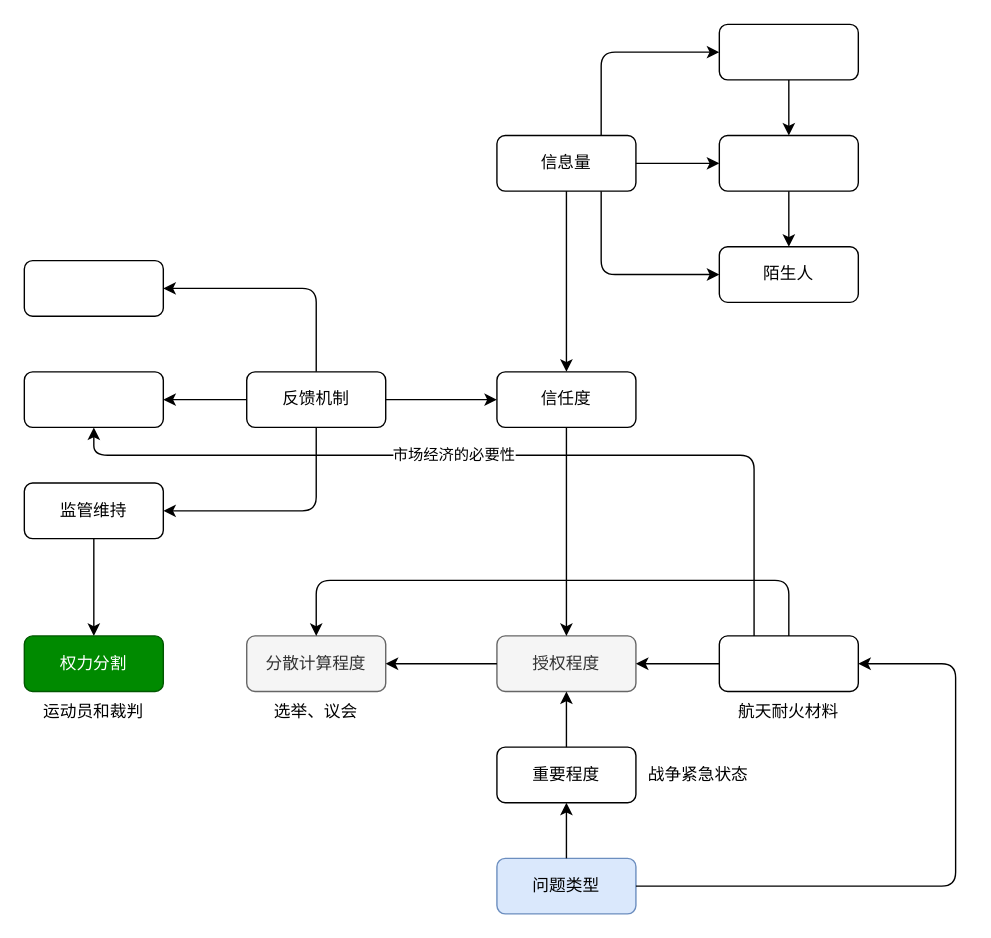
Image size: 991x938. Some labels were removed from this diagram. Here are the shapes that lost their labels. From the top down, the box of each, then its label:
(718, 23, 858, 80): 亲友
(718, 134, 858, 191): 家族
(23, 259, 163, 316): 道德维持 利益相关
(23, 370, 163, 427): 竞争维持
(718, 635, 858, 692): 专业程度
